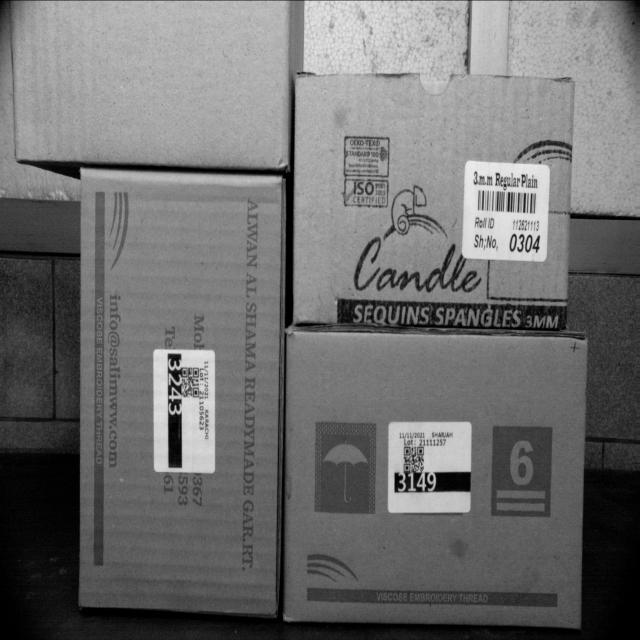cardboxes: (77, 174, 279, 626), (292, 331, 584, 628), (296, 78, 574, 336), (13, 1, 286, 173)
